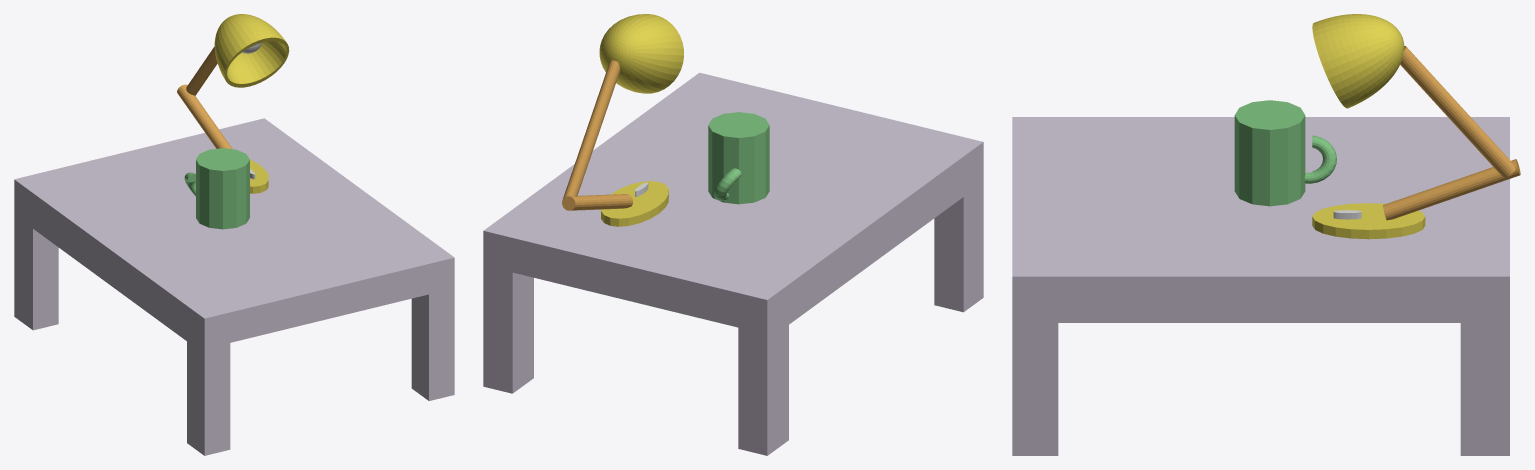
3 renders of one model, left to right at view 1: azimuth 30°, elevation 25°; view 2: azimuth 150°, elevation 25°; view 3: azimuth 270°, elevation 25°, orthographic. The views are drawn at different scales.
Parts seen in each view (by area): view 1: Mesh_Mesh_head_geo.001_lambert2SG.001; view 2: Mesh_Mesh_head_geo.001_lambert2SG.001; view 3: Mesh_Mesh_head_geo.001_lambert2SG.001.
Boxes of the visible parts, x1,y1,x2,y2 form: Mesh_Mesh_head_geo.001_lambert2SG.001: [14, 14, 454, 455]; Mesh_Mesh_head_geo.001_lambert2SG.001: [483, 14, 983, 455]; Mesh_Mesh_head_geo.001_lambert2SG.001: [1012, 14, 1520, 455].
Size of the model in its own units: 107 by 122 by 144.
